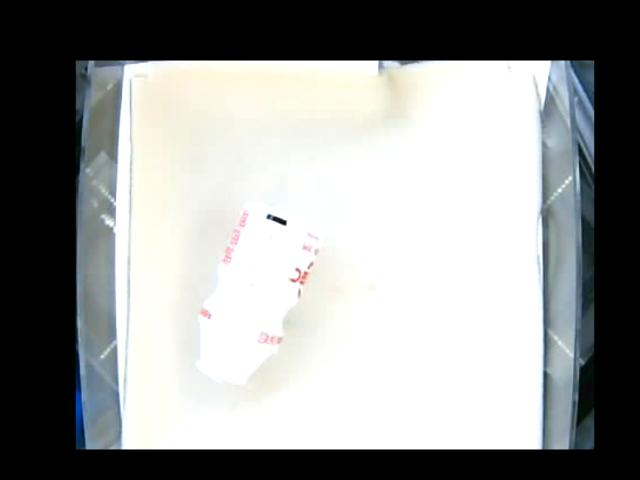Bottle: (195, 199, 323, 386)
